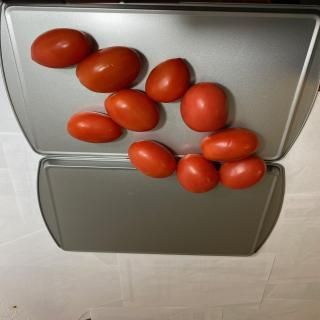Chilli: (30, 28, 268, 194)
Tomato: (76, 46, 142, 93), (180, 82, 229, 132), (31, 28, 92, 68), (104, 89, 160, 132), (200, 127, 260, 162), (145, 57, 190, 103), (128, 140, 177, 178), (67, 112, 123, 144), (176, 154, 219, 194), (219, 156, 267, 190)
